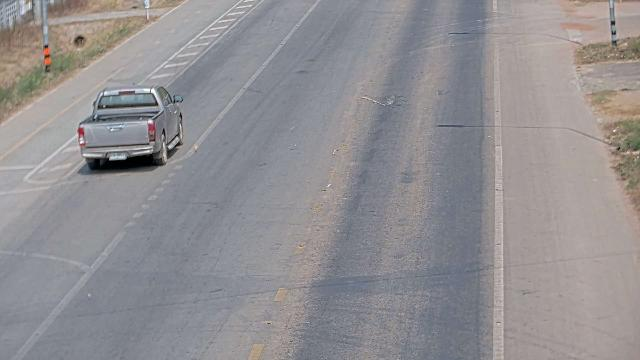pickup-truck: (76, 84, 184, 170)
